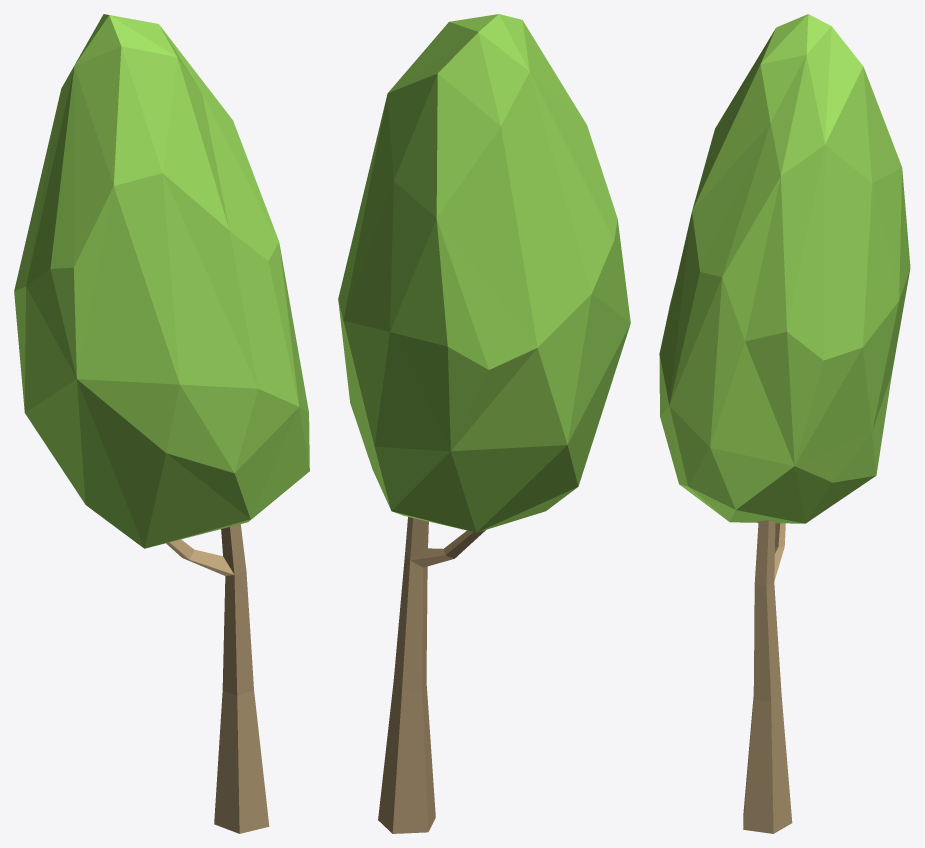
The model's file is Random_Tree_m_BT_07.fbx.
3 renders of one model, left to right at view 1: azimuth 30°, elevation 25°; view 2: azimuth 150°, elevation 25°; view 3: azimuth 270°, elevation 25°, orthographic. The views are drawn at different scales.
Parts seen in each view (by area): view 1: Random_Tree_m_BT_07; view 2: Random_Tree_m_BT_07; view 3: Random_Tree_m_BT_07.
Boxes of the visible parts, <box> form: Random_Tree_m_BT_07: <box>14,14,309,833</box>; Random_Tree_m_BT_07: <box>338,14,630,833</box>; Random_Tree_m_BT_07: <box>659,14,910,833</box>.
Bounding box in the file's own units: 282 × 933 × 280.
